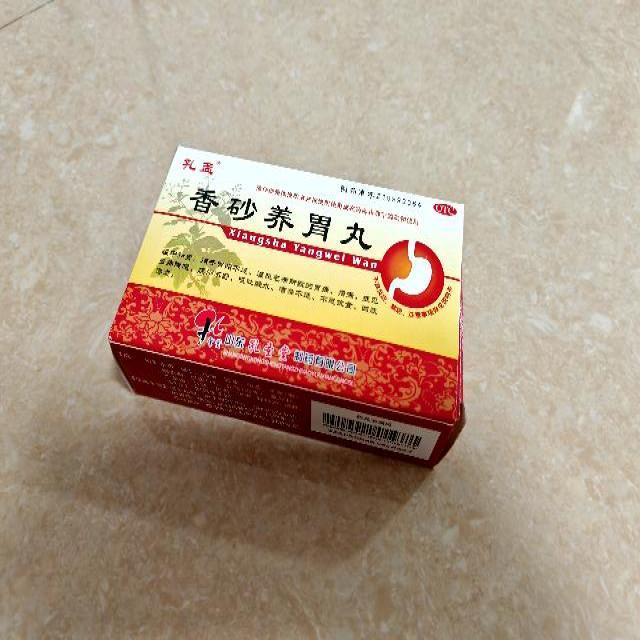box: (108, 145, 464, 468)
